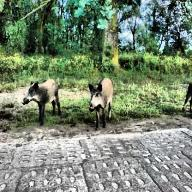boar: (18, 74, 65, 132), (84, 67, 120, 133)
